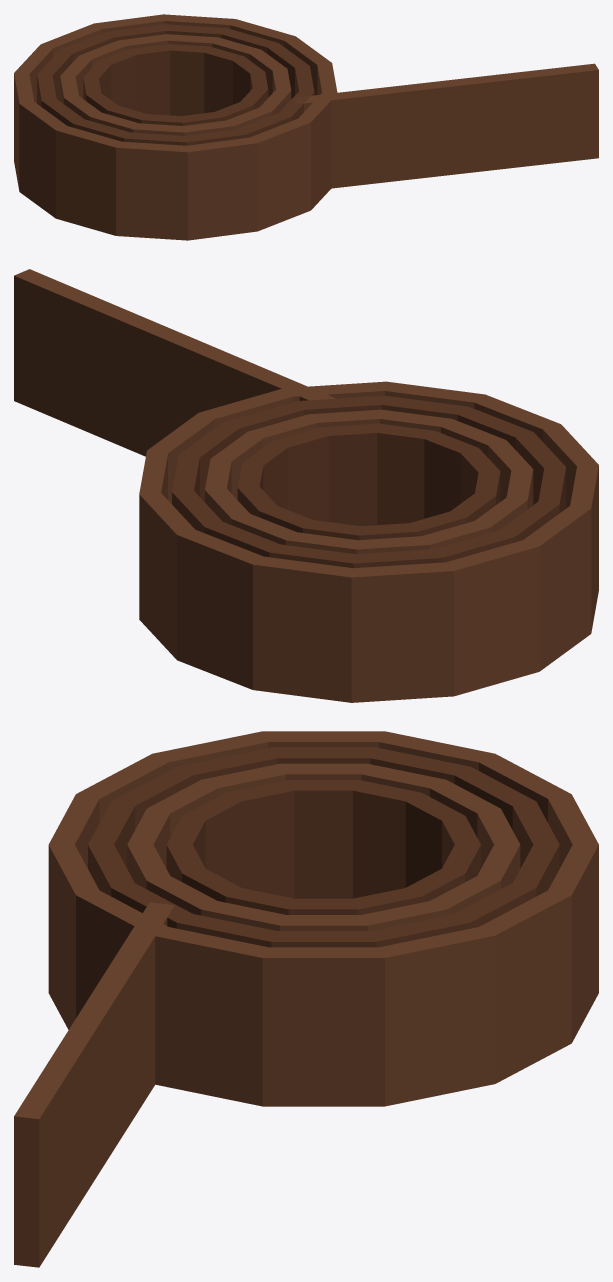
The model's file is leather-strip.glb.
The picture shows the model from 3 angles, top to bottom: view 1: azimuth 30°, elevation 25°; view 2: azimuth 150°, elevation 25°; view 3: azimuth 270°, elevation 25°; orthographic projection. The views are drawn at different scales.
Parts seen in each view (by area): view 1: leather_strip; view 2: leather_strip; view 3: leather_strip.
Part boxes in pixels (x1=…): leather_strip: x1=14, y1=14, x2=598, y2=240; leather_strip: x1=14, y1=269, x2=598, y2=702; leather_strip: x1=14, y1=731, x2=598, y2=1267.
Size of the model in its own units: 0.1401 by 0.025 by 0.0893.
